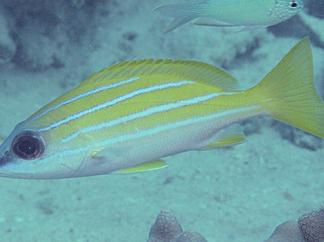Lutjanidae -Snappers-: (0, 34, 324, 182)
